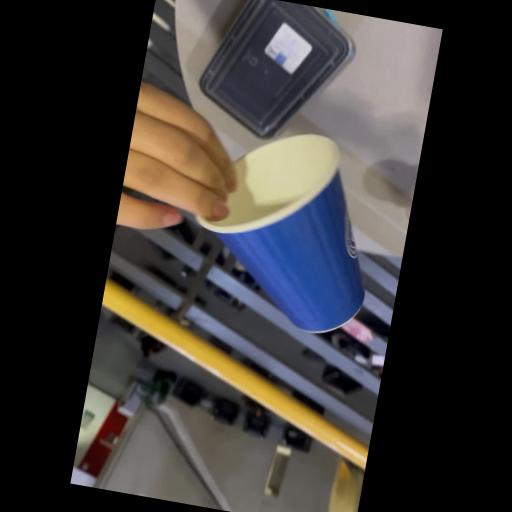lp_paper_cup: (173, 118, 390, 344)
